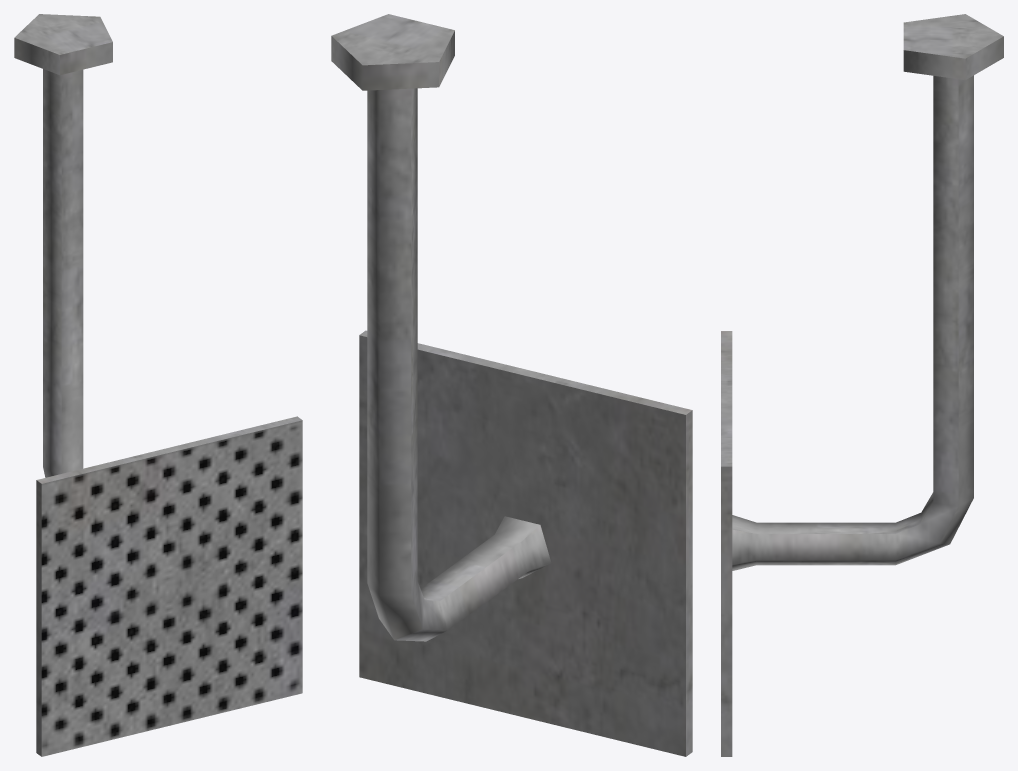
The model's file is Watering_can_04.glb.
The picture shows the model from 3 angles, left to right: view 1: azimuth 30°, elevation 25°; view 2: azimuth 150°, elevation 25°; view 3: azimuth 270°, elevation 25°; orthographic projection. The views are drawn at different scales.
Parts seen in each view (by area): view 1: Watering_can_04; view 2: Watering_can_04; view 3: Watering_can_04.
Boxes of the visible parts, x1,y1,x2,y2 form: Watering_can_04: (14,14,302,756); Watering_can_04: (331,14,692,756); Watering_can_04: (721,14,1003,756).
Size of the model in its own units: 0.3633 by 0.8167 by 0.3207.
2 materials, 2 textured.
